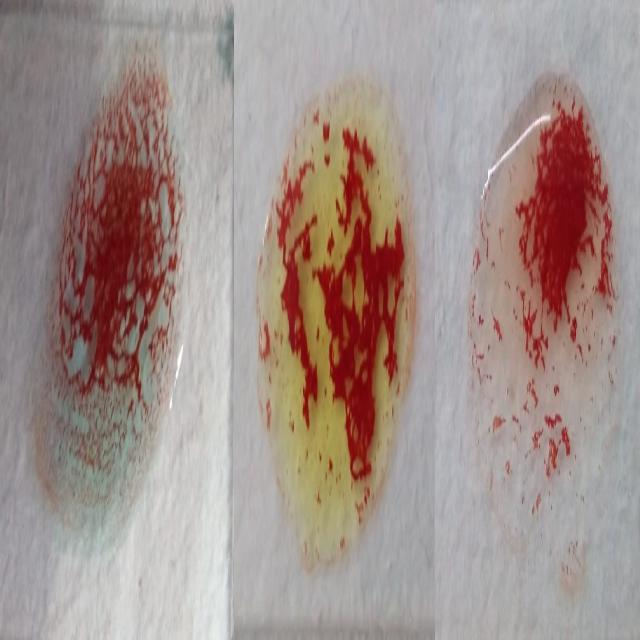A: (41, 43, 183, 522)
B: (256, 92, 404, 536)
D: (478, 67, 614, 540)
